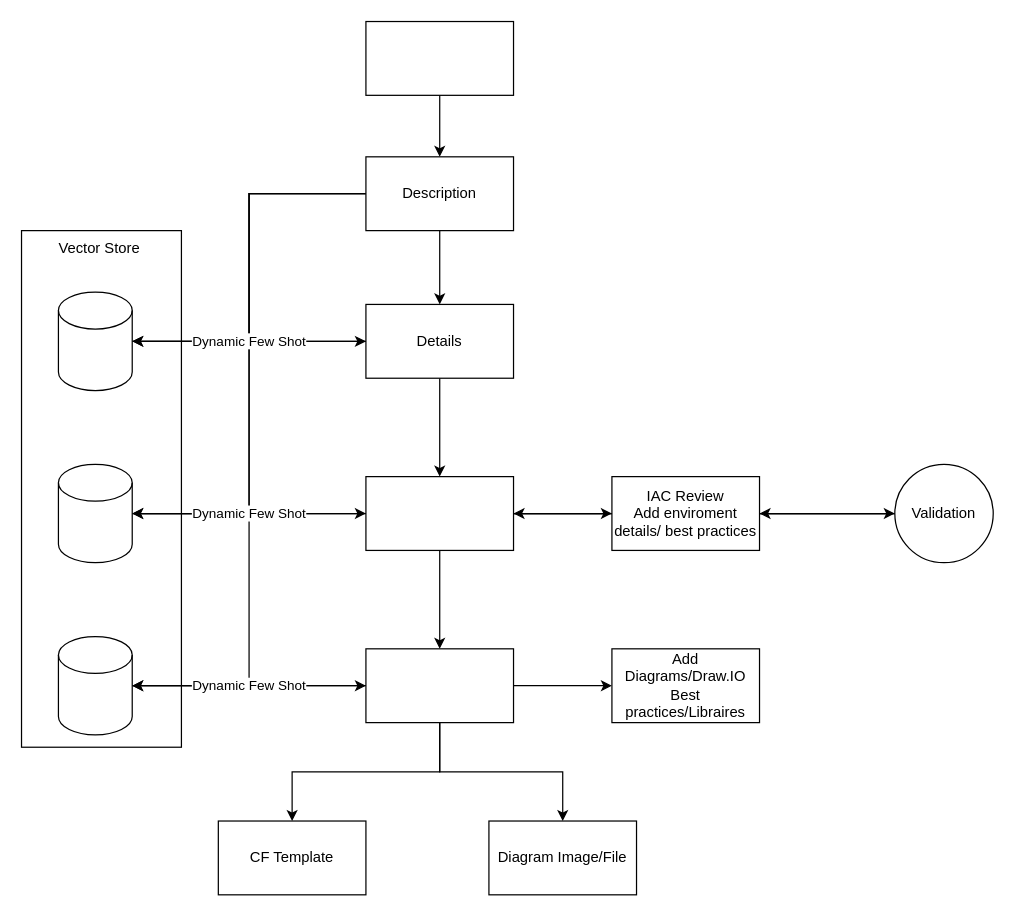
Image size: 1015x916. Some labels were removed from this diagram. The shapes that lost their labels are listed below. From the top down, each one's centre as x and y in pixels, then its label:
At point (439, 57): "Image".
At point (439, 512): "IAC".
At point (439, 685): "Diagram".
